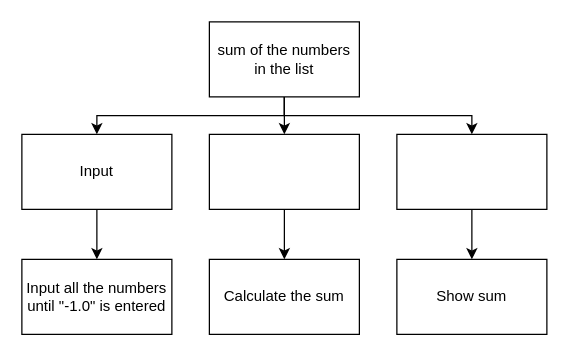
The diagram is 569 pixels wide and 356 high, and some of its shapes have lost their labels. Each missing label, with the centre of its shape:
"Output" belongs at (471,171).
"Process" belongs at (283,171).
